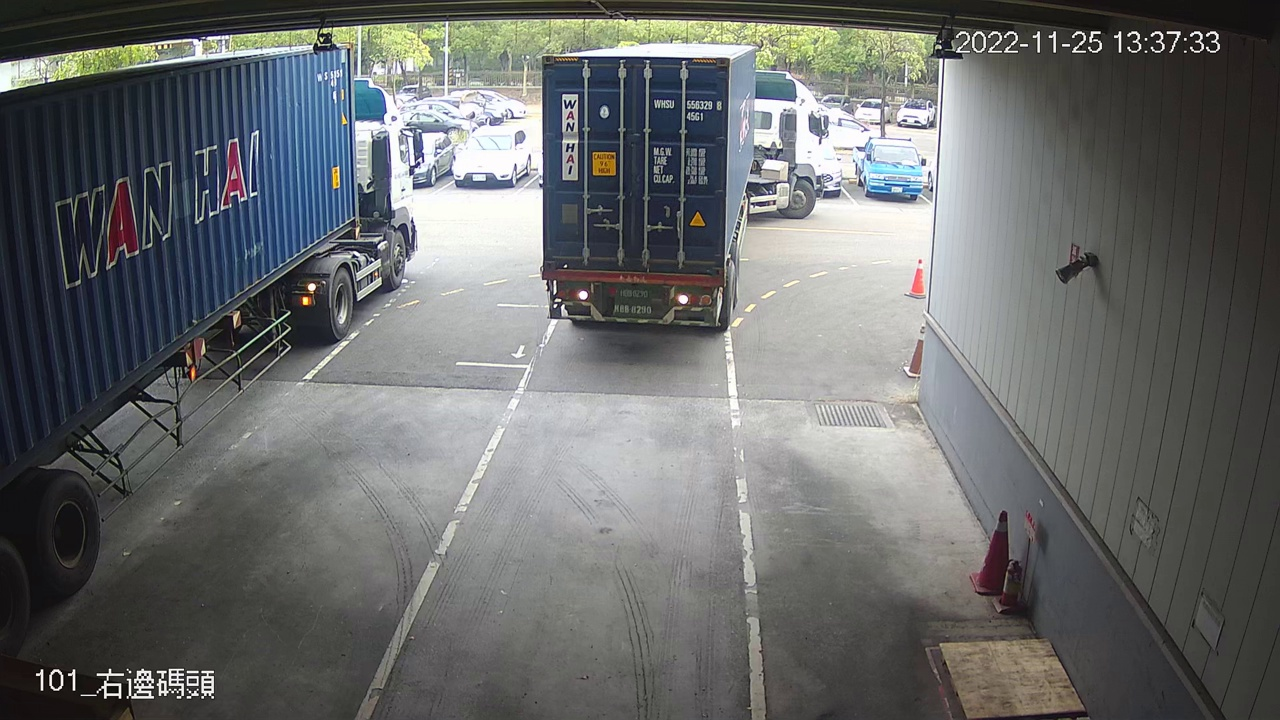container: (647, 94, 725, 126)
